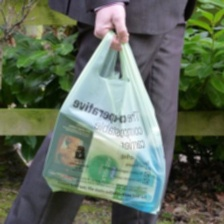plastic_bag: (39, 24, 169, 215)
